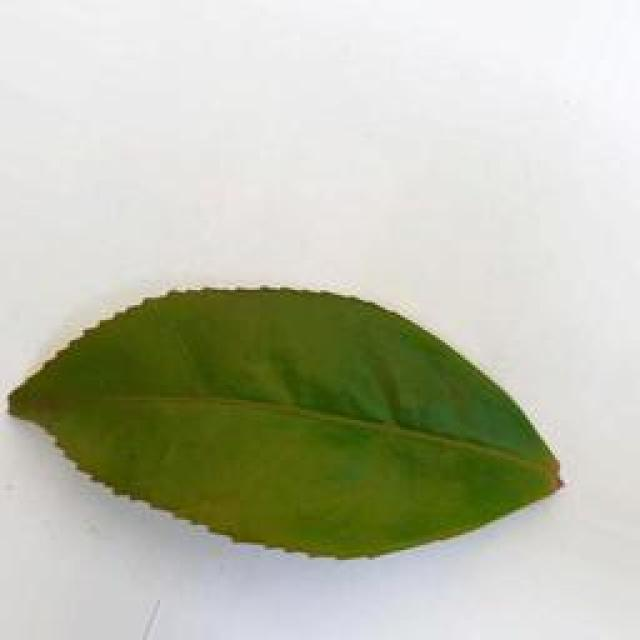Healthy: (14, 289, 560, 558)
